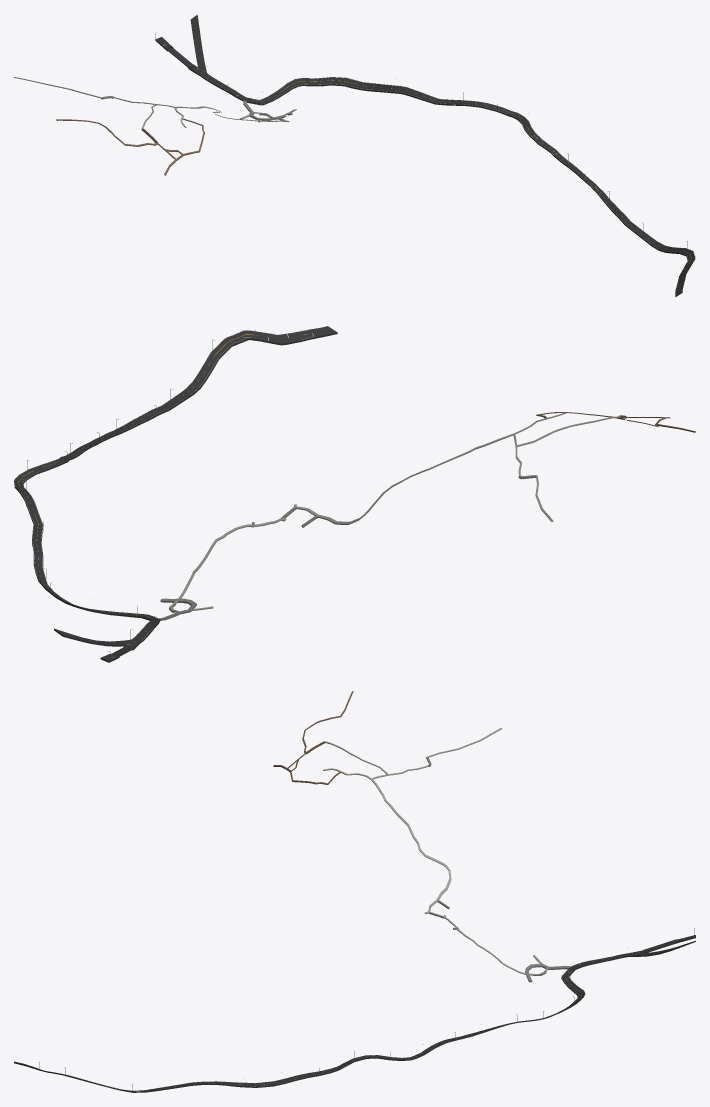
3 renders of one model, top to bottom at view 1: azimuth 30°, elevation 25°; view 2: azimuth 150°, elevation 25°; view 3: azimuth 270°, elevation 25°, orthographic. The views are drawn at different scales.
Bounding box in the file's own units: 485 × 157 × 583.
